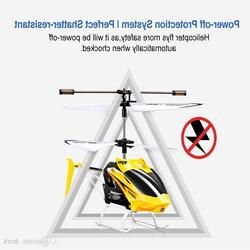drone: (58, 89, 191, 234)
